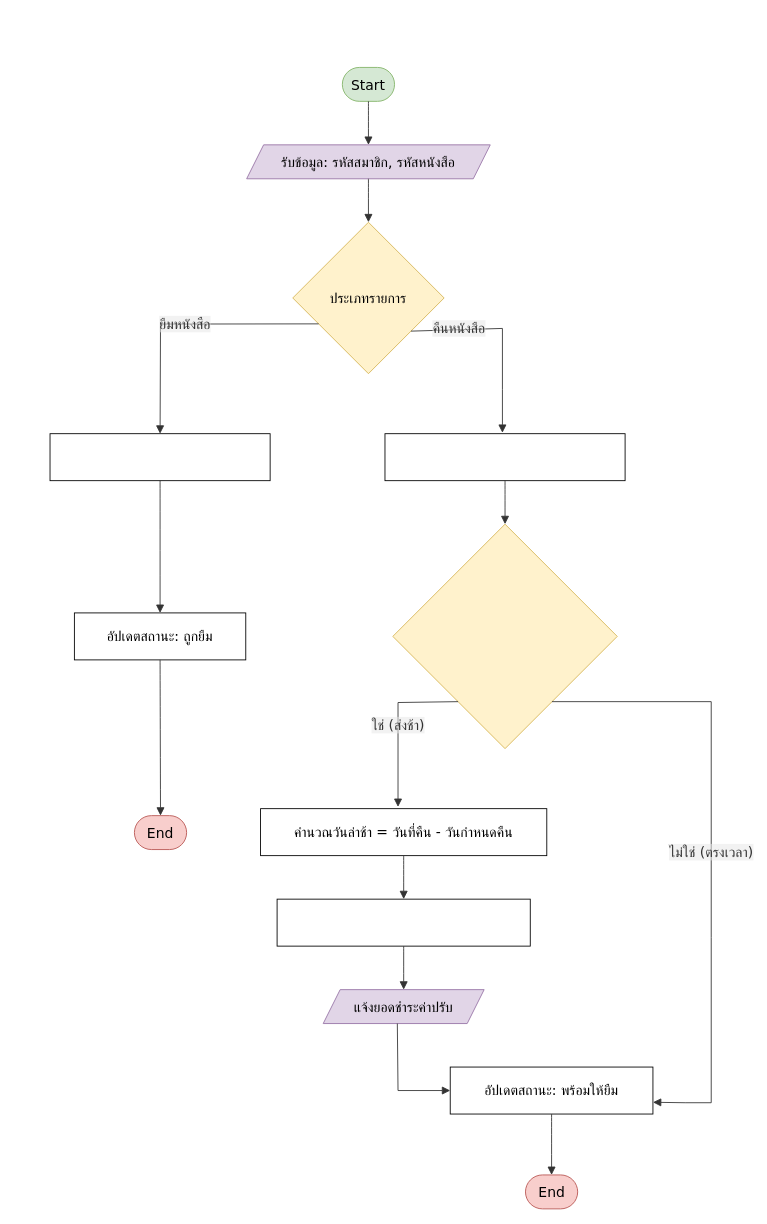
Some shapes in this 767 by 1224 pixel diagram are drawn without their labels. Each missing label, with the centre of its shape:
"คำนวณค่าปรับ = วันล่าช้า * 20 บาท" goes at (x=403, y=922).
"ดึงข้อมูล 'วันกำหนดคืน' จากระบบ" goes at (x=504, y=457).
"บันทึกวันยืม และกำหนดวันคืน" goes at (x=159, y=457).
"วันที่คืน > วันกำหนดคืน" goes at (x=504, y=636).
